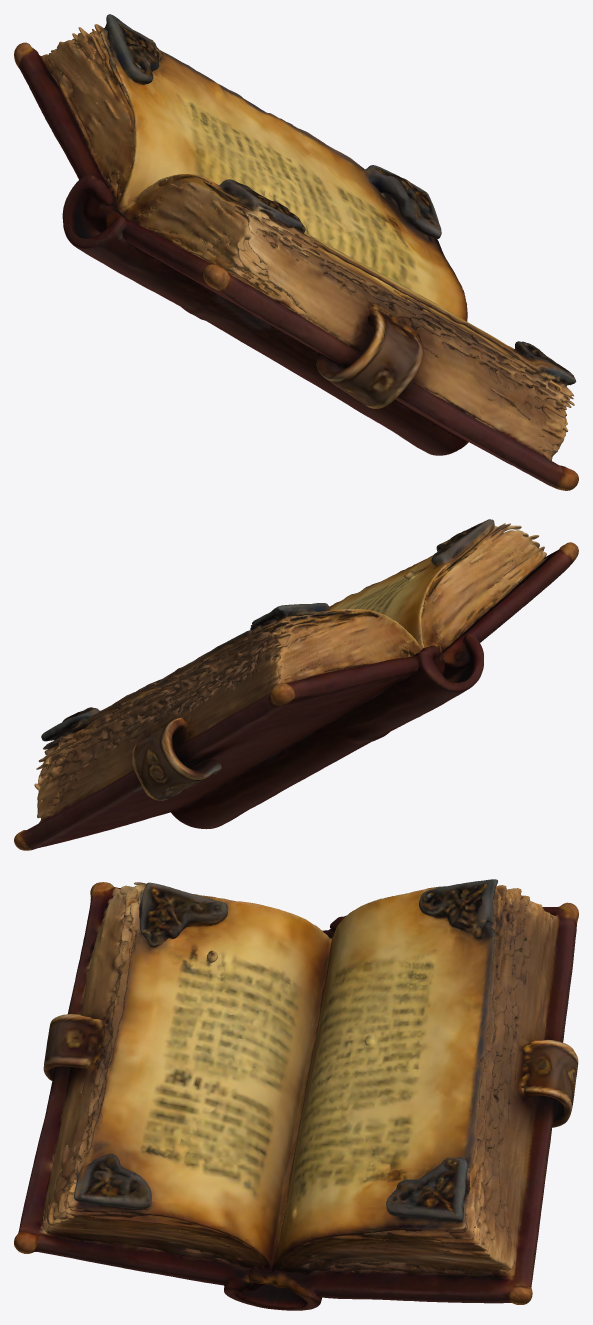
Rendered from MagicBook.fbx.
3 renders of one model, top to bottom at view 1: azimuth 30°, elevation 25°; view 2: azimuth 150°, elevation 25°; view 3: azimuth 270°, elevation 25°, orthographic. The views are drawn at different scales.
Visible parts, largest first — view 1: tripo_node_da706e04; view 2: tripo_node_da706e04; view 3: tripo_node_da706e04.
Boxes of the visible parts, x1=… form: tripo_node_da706e04: x1=14, y1=14, x2=578, y2=490; tripo_node_da706e04: x1=14, y1=519, x2=578, y2=850; tripo_node_da706e04: x1=14, y1=879, x2=578, y2=1310.
Size of the model in its own units: 0.7772 by 0.6784 by 0.9999.
